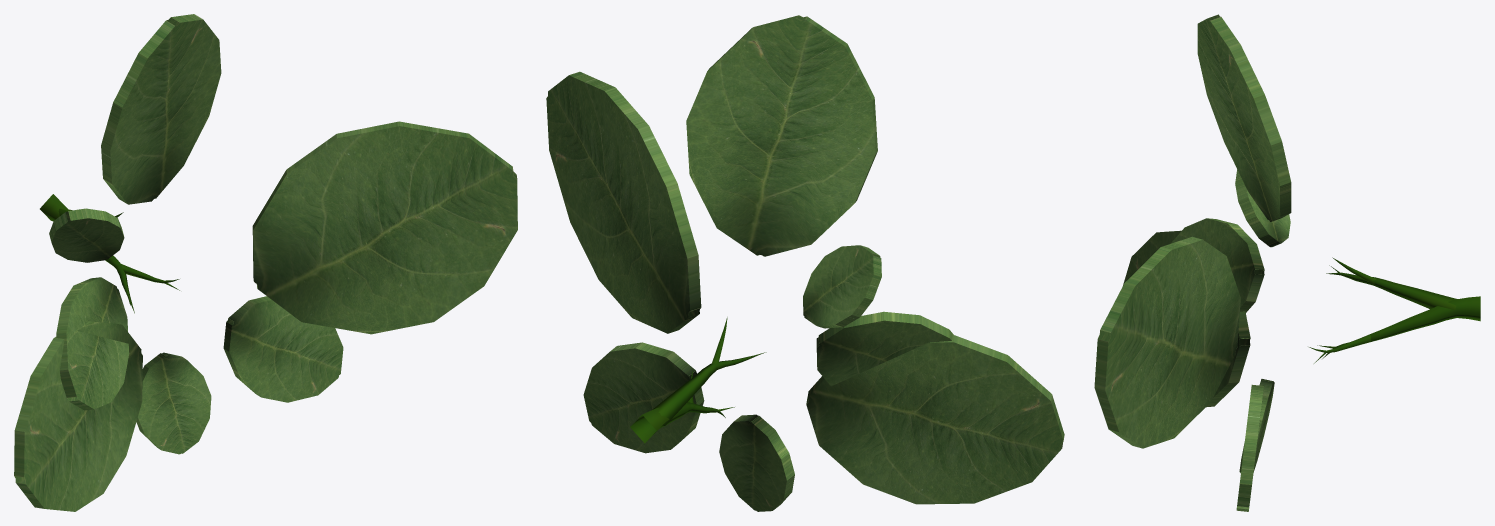
The model's file is plant3.obj.
3 views of the same model, side by side, from view 1: azimuth 30°, elevation 25°; view 2: azimuth 150°, elevation 25°; view 3: azimuth 270°, elevation 25° (orthographic). The views are drawn at different scales.
Visible parts, largest first — view 1: leaves.007, tree.007; view 2: leaves.007, tree.007; view 3: leaves.007, tree.007.
Boxes of the visible parts, x1=… form: leaves.007: x1=14, y1=14, x2=517, y2=511; tree.007: x1=40, y1=194, x2=179, y2=313; leaves.007: x1=546, y1=15, x2=1064, y2=511; tree.007: x1=630, y1=317, x2=766, y2=443; leaves.007: x1=1094, y1=14, x2=1291, y2=511; tree.007: x1=1309, y1=257, x2=1480, y2=363.
Size of the model in its own units: 0.1441 by 0.1268 by 0.0987.
2 materials, 2 textured.
